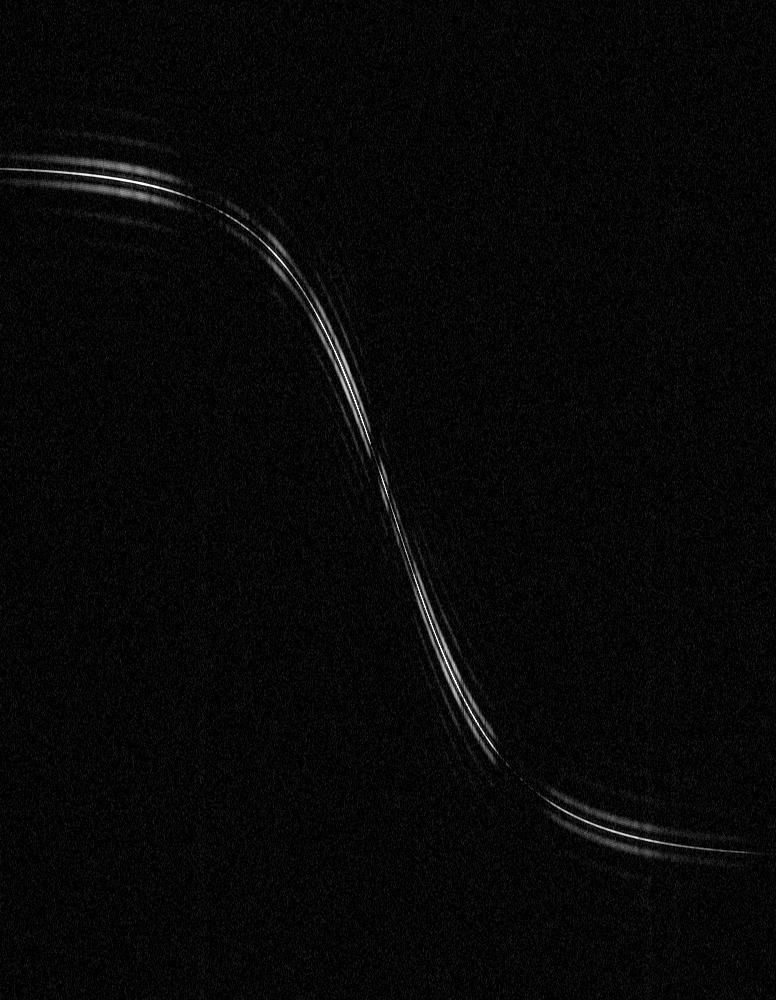signal: (0, 0, 775, 999)
